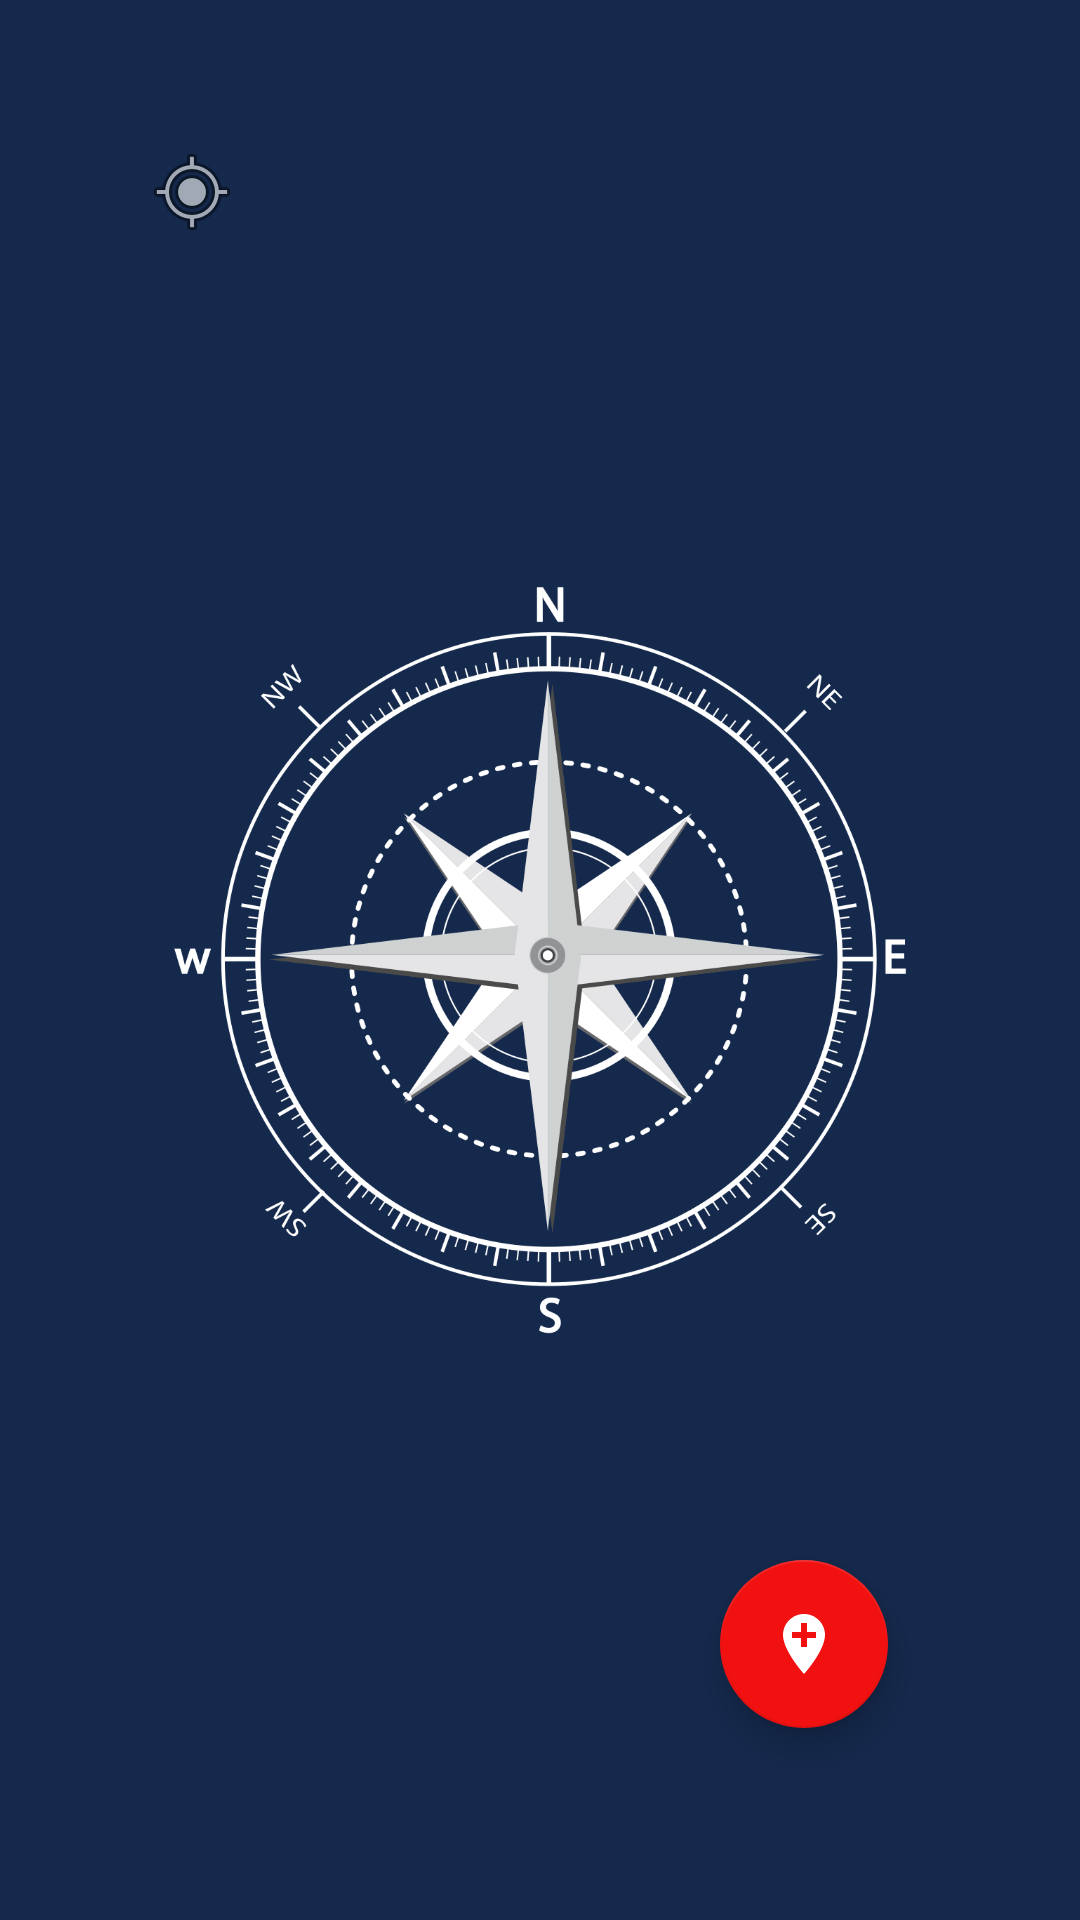

Icons on this 1080 × 1920 Android screen, each with the point to tap as (x,y):
add location: (804,1644)
mylocation: (192,192)
